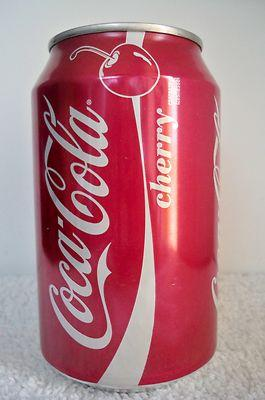metal: (33, 23, 220, 390)
